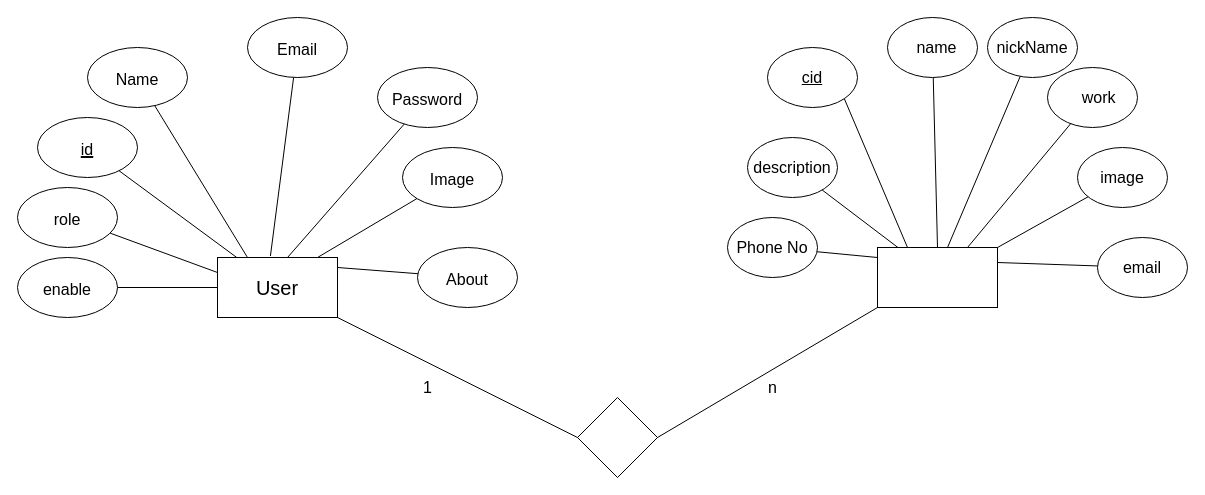
Image size: 1205x495. Some labels were removed from this diagram. The box of each missing label's shape, as (x1, y1, x2, y2) in pixels:
Contact: (876, 246, 998, 308)
has: (576, 396, 658, 478)
